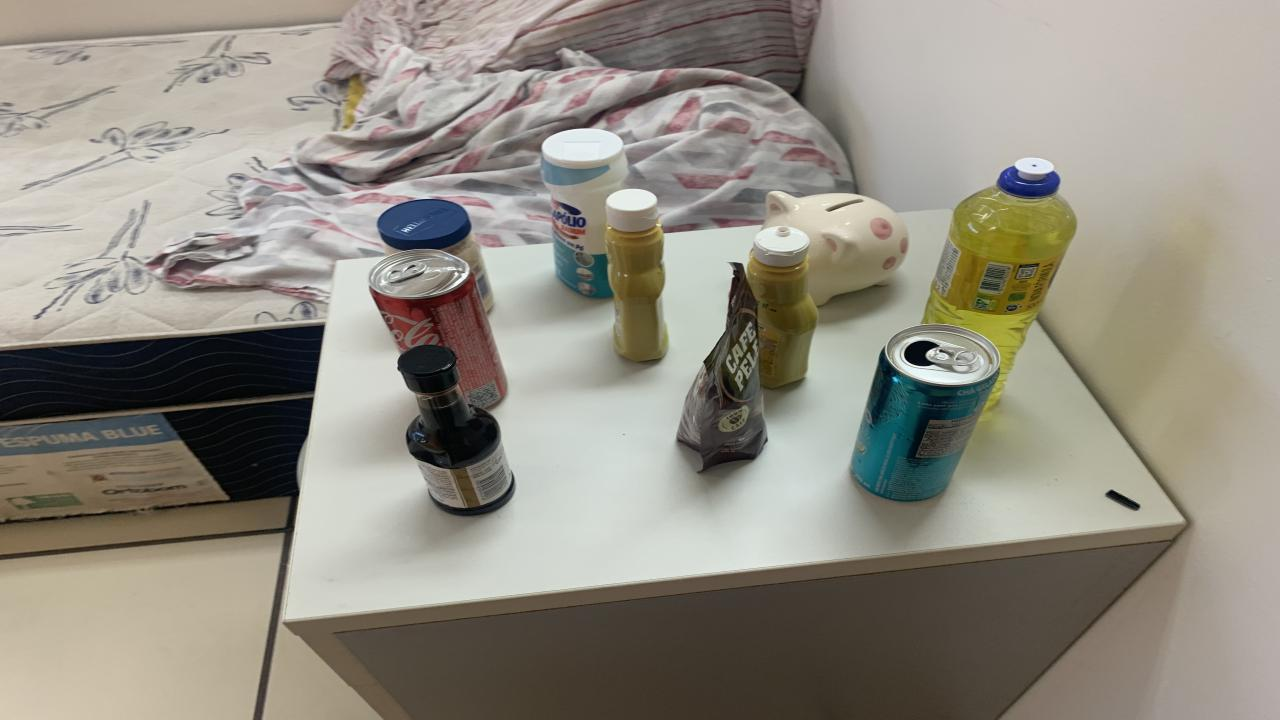Cleaner-Cleanup_Items: (540, 128, 628, 298)
Coffee-Pantry_Items: (678, 262, 768, 471)
Coke-Drinks: (368, 249, 508, 409)
Detergent-Cleanup_Items: (922, 158, 1078, 409)
English_Sauce-Pantry_Items: (398, 345, 515, 516)
Mayonnaise-Pantry_Items: (378, 199, 492, 311)
Mustard-Pantry_Items: (748, 225, 818, 388), (605, 189, 668, 362)
Pig_Safe-Miscellaneous: (762, 191, 910, 306)
Tea-Drinks: (850, 324, 1000, 501)
